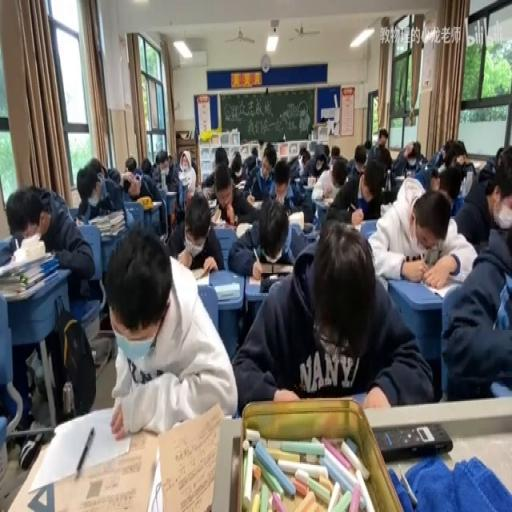calculator: (26, 406, 128, 494), (154, 404, 224, 509), (0, 248, 50, 280), (144, 445, 163, 512), (422, 279, 459, 300), (213, 282, 241, 300), (234, 220, 253, 238), (194, 270, 210, 286), (463, 168, 472, 193), (210, 205, 222, 222), (248, 272, 264, 284), (178, 169, 192, 182), (380, 200, 393, 214), (202, 186, 214, 199), (318, 196, 333, 206), (352, 220, 364, 232), (302, 220, 314, 232), (206, 196, 216, 208), (473, 160, 485, 170), (307, 175, 317, 186), (164, 189, 176, 198), (234, 179, 245, 188), (252, 199, 263, 208), (74, 216, 85, 225), (150, 199, 162, 206), (292, 176, 302, 184), (394, 172, 405, 179)
paper: (232, 219, 426, 414), (106, 223, 237, 434), (1, 180, 96, 432), (368, 178, 477, 288), (170, 191, 226, 273), (206, 161, 261, 226), (80, 158, 130, 226), (284, 154, 318, 224), (472, 145, 507, 195), (390, 136, 424, 176), (151, 150, 179, 196), (433, 162, 462, 202), (330, 176, 358, 212), (371, 145, 392, 192), (120, 155, 142, 198), (346, 141, 370, 175), (309, 147, 331, 179), (439, 138, 460, 168), (272, 162, 290, 188), (229, 151, 242, 179), (214, 146, 228, 165), (108, 166, 121, 185), (299, 151, 310, 172), (496, 146, 506, 164), (378, 128, 388, 146), (189, 158, 197, 180), (141, 158, 152, 173), (330, 144, 340, 158), (98, 164, 107, 179), (363, 138, 371, 151), (252, 144, 258, 156)
person: (373, 422, 452, 461), (259, 273, 291, 293), (258, 259, 292, 276)
